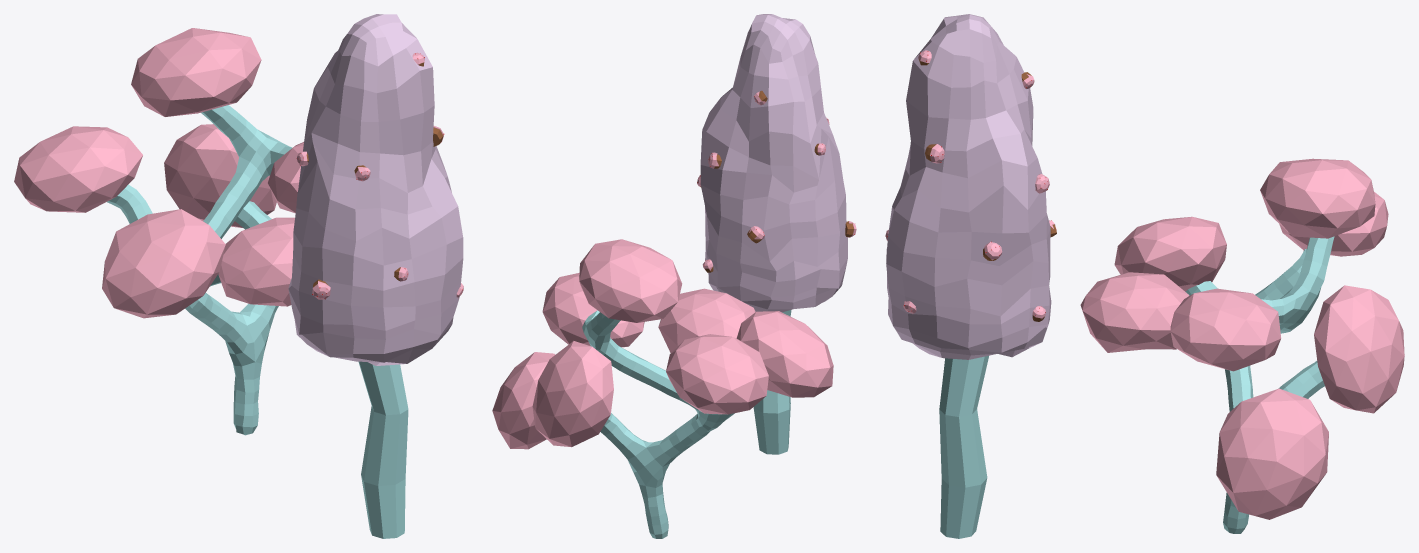
Rendered from Drzewo.fbx.
The picture shows the model from 3 angles, left to right: view 1: azimuth 30°, elevation 25°; view 2: azimuth 150°, elevation 25°; view 3: azimuth 270°, elevation 25°; orthographic projection. The views are drawn at different scales.
Visible parts, largest first — view 1: Drzewo1, Drzewo2; view 2: Drzewo2, Drzewo1; view 3: Drzewo2, Drzewo1.
Part boxes in pixels (x1=…): Drzewo1: x1=288, y1=14, x2=463, y2=538; Drzewo2: x1=14, y1=28, x2=303, y2=435; Drzewo2: x1=492, y1=239, x2=833, y2=538; Drzewo1: x1=697, y1=14, x2=856, y2=454; Drzewo2: x1=1080, y1=158, x2=1404, y2=533; Drzewo1: x1=885, y1=14, x2=1056, y2=538.
Size of the model in its own units: 921 by 1325 by 1207.
